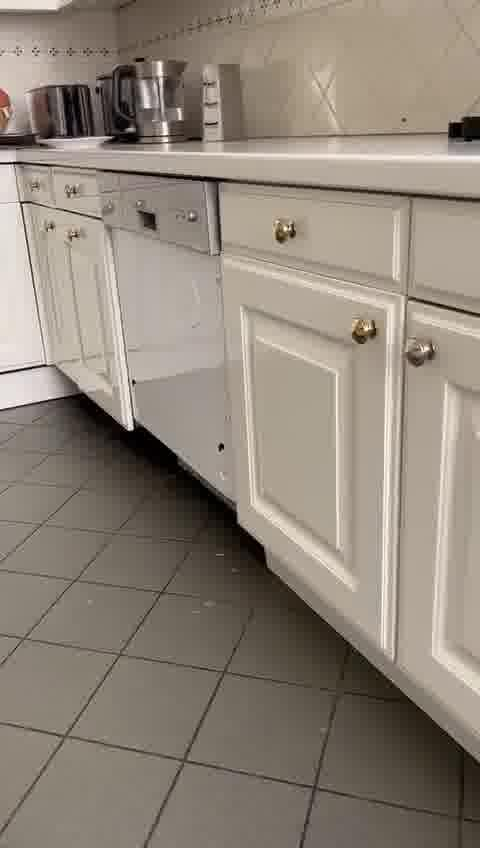cabinet_door: (233, 281, 395, 612), (397, 331, 479, 738), (119, 188, 229, 461), (223, 187, 405, 271), (37, 214, 113, 392), (413, 206, 480, 313), (0, 206, 26, 370), (52, 172, 118, 211), (22, 169, 53, 204)
handle: (402, 338, 439, 378), (272, 217, 301, 254), (351, 317, 379, 350), (133, 201, 160, 233), (63, 222, 82, 245), (39, 214, 59, 235), (64, 182, 83, 201), (28, 179, 42, 195)
